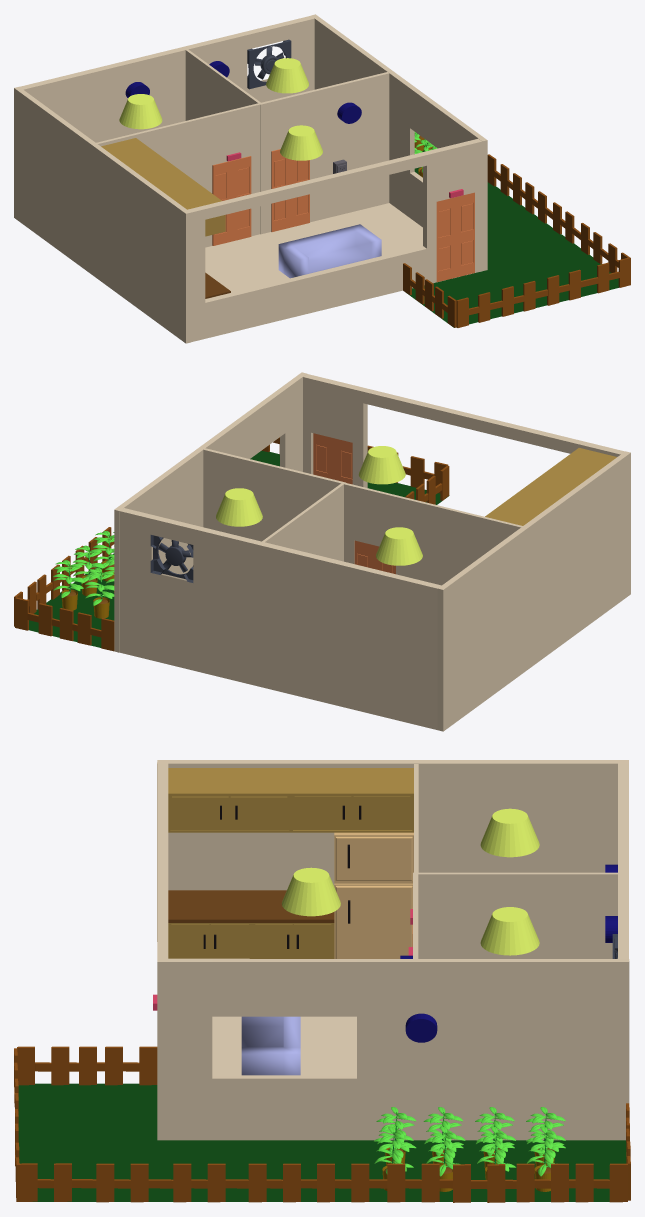
The picture shows the model from 3 angles, top to bottom: view 1: azimuth 30°, elevation 25°; view 2: azimuth 150°, elevation 25°; view 3: azimuth 270°, elevation 25°; orthographic projection. The views are drawn at different scales.
Visible parts, largest first — view 1: wall, Cube.003, fence, sofa, Cube.009, doorLiving, doorBed, doorBath, LightBath, lightBed, lightLiving, Circle; view 2: wall, fence, Cube.009, Cube.003, doorLiving, lightLiving, LightBath, lightBed, tree4, tree8, doorBed, tree7 (+3 smaller); view 3: wall, Cube.003, fence, Cube.009, Cube.028, Cube.023, sofa, lightBed, LightBath, lightLiving, tree8, tree6 (+7 smaller).
Part boxes in pixels (x1=…): wall: x1=14, y1=14, x2=487, y2=343; Cube.003: x1=407, y1=143, x2=618, y2=327; fence: x1=403, y1=154, x2=630, y2=327; sofa: x1=278, y1=224, x2=381, y2=278; Cube.009: x1=101, y1=138, x2=225, y2=236; doorLiving: x1=436, y1=192, x2=474, y2=282; doorBed: x1=212, y1=156, x2=251, y2=245; doorBath: x1=271, y1=149, x2=309, y2=231; LightBath: x1=266, y1=58, x2=308, y2=93; lightBed: x1=119, y1=94, x2=162, y2=129; lightLiving: x1=280, y1=125, x2=322, y2=160; Circle: x1=247, y1=39, x2=291, y2=89; wall: x1=114, y1=372, x2=630, y2=731; fence: x1=14, y1=437, x2=449, y2=651; Cube.009: x1=485, y1=448, x2=616, y2=525; Cube.003: x1=29, y1=450, x2=449, y2=647; doorLiving: x1=313, y1=433, x2=352, y2=484; lightLiving: x1=358, y1=446, x2=405, y2=484; LightBath: x1=216, y1=488, x2=262, y2=526; lightBed: x1=376, y1=527, x2=422, y2=565; tree4: x1=85, y1=568, x2=114, y2=618; tree8: x1=53, y1=560, x2=84, y2=610; doorBed: x1=354, y1=540, x2=395, y2=574; tree7: x1=73, y1=545, x2=104, y2=595; wall: x1=157, y1=760, x2=629, y2=1140; Cube.003: x1=18, y1=1083, x2=626, y2=1201; fence: x1=14, y1=1046, x2=630, y2=1202; Cube.009: x1=168, y1=768, x2=413, y2=832; Cube.028: x1=168, y1=890, x2=334, y2=958; Cube.023: x1=334, y1=832, x2=413, y2=958; sofa: x1=241, y1=1016, x2=300, y2=1075; lightBed: x1=480, y1=808, x2=539, y2=857; LightBath: x1=480, y1=907, x2=539, y2=955; lightLiving: x1=281, y1=867, x2=340, y2=916; tree8: x1=526, y1=1126, x2=565, y2=1191; tree6: x1=426, y1=1126, x2=465, y2=1191.
Bounding box in the file's own units: 39.78 × 12.51 × 39.22.
